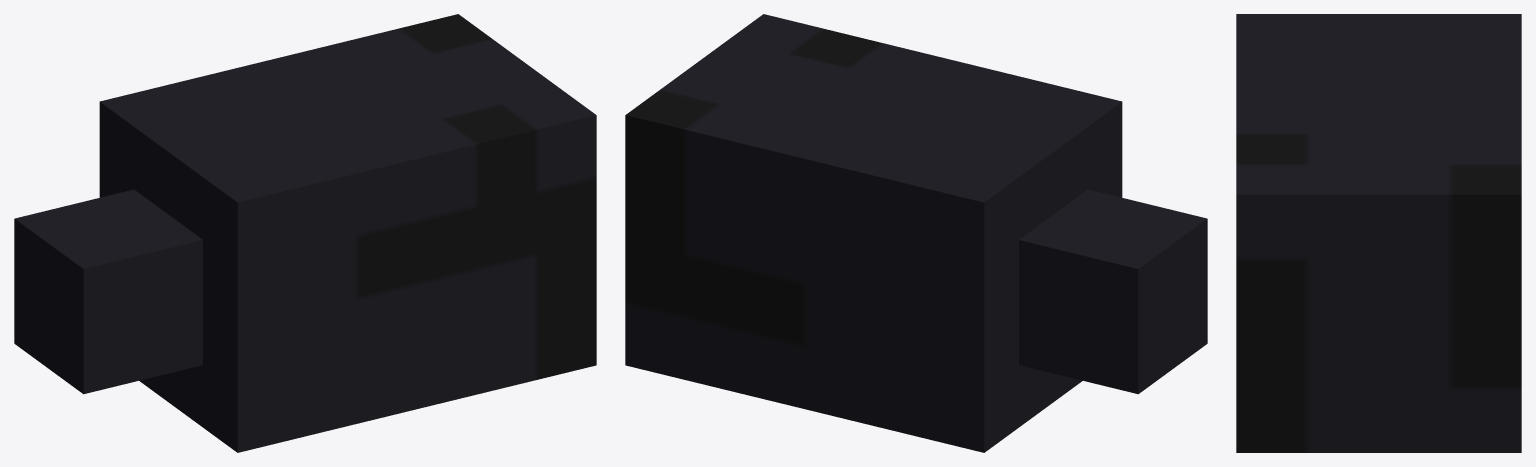
File: Shoulder078.fbx
3 renders of one model, left to right at view 1: azimuth 30°, elevation 25°; view 2: azimuth 150°, elevation 25°; view 3: azimuth 270°, elevation 25°, orthographic. The views are drawn at different scales.
Visible parts, largest first — view 1: Shoulder078; view 2: Shoulder078; view 3: Shoulder078.
Boxes of the visible parts, x1=… form: Shoulder078: x1=14, y1=14, x2=596, y2=452; Shoulder078: x1=625, y1=14, x2=1207, y2=452; Shoulder078: x1=1236, y1=14, x2=1521, y2=452.
Size of the model in its own units: 8 by 4 by 4.
